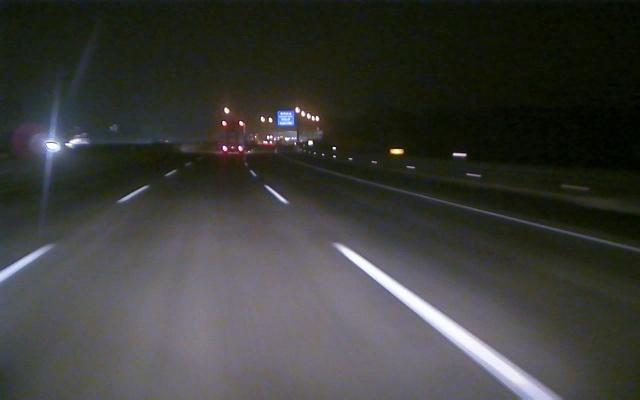lane: (263, 185, 565, 399), (352, 175, 640, 254), (1, 189, 144, 282)
